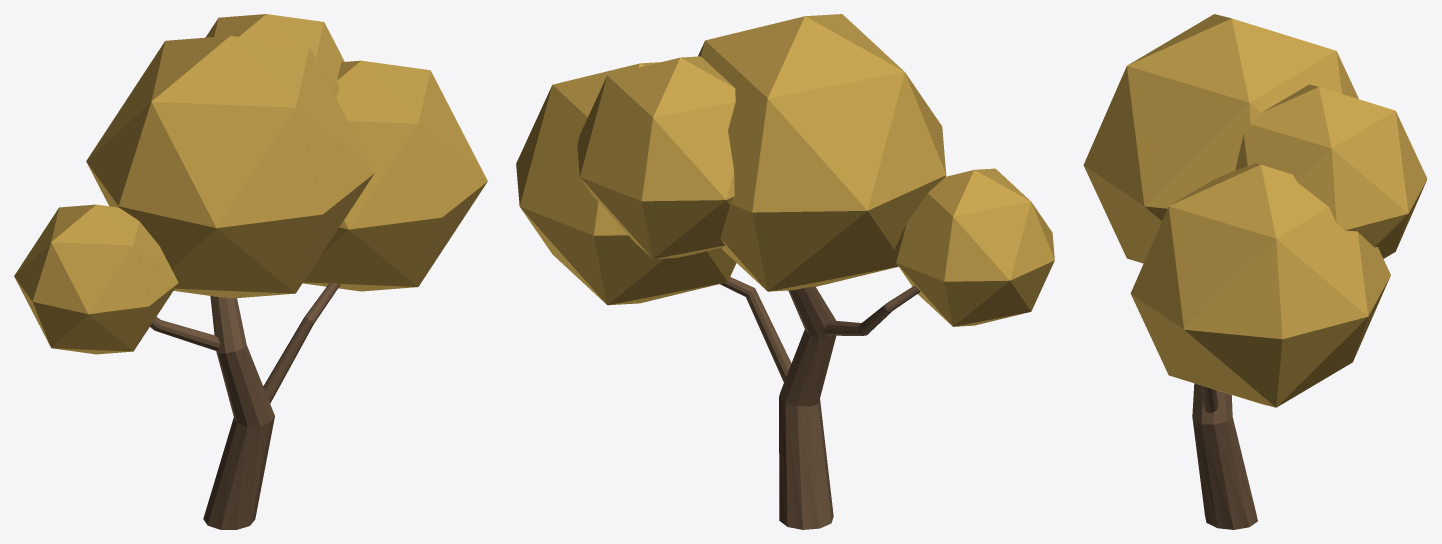
The model's file is tree_yellow_2.glb.
3 renders of one model, left to right at view 1: azimuth 30°, elevation 25°; view 2: azimuth 150°, elevation 25°; view 3: azimuth 270°, elevation 25°, orthographic. The views are drawn at different scales.
Parts seen in each view (by area): view 1: Tree Yellow 1; view 2: Tree Yellow 1; view 3: Tree Yellow 1.
Boxes of the visible parts, x1=… form: Tree Yellow 1: x1=14, y1=14, x2=487, y2=529; Tree Yellow 1: x1=516, y1=14, x2=1054, y2=529; Tree Yellow 1: x1=1083, y1=14, x2=1427, y2=529.
Bounding box in the file's own units: 0.2917 × 0.2849 × 0.1774.
